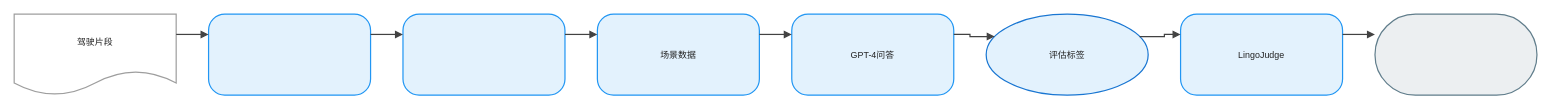
Image size: 1552x110. Some labels were removed from this diagram. Here are the shapes that lost their labels. From the top down, the box of each, then its label:
(208, 13, 371, 95): 动作数据
(402, 13, 565, 95): GPT改写
(1374, 13, 1537, 95): VQA分数
